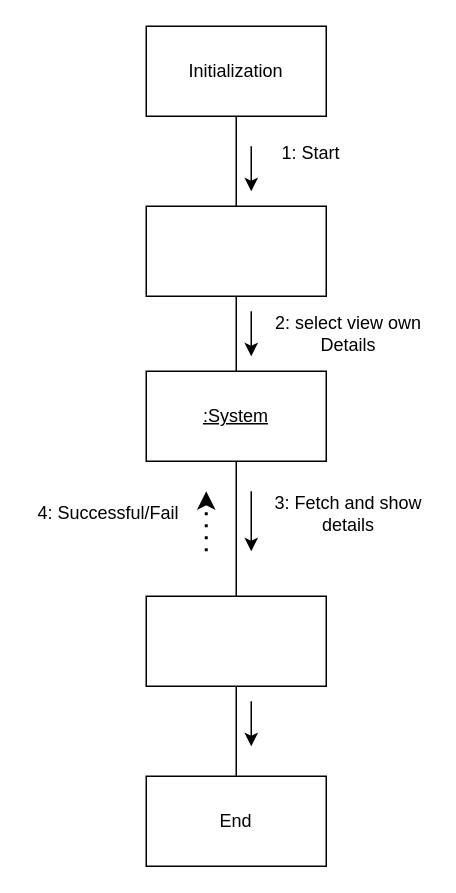
Image size: 456x893. Some labels were removed from this diagram. Each missing label, with the box of its shape:
:DB: (145, 595, 326, 686)
:Faculty: (145, 205, 326, 296)
